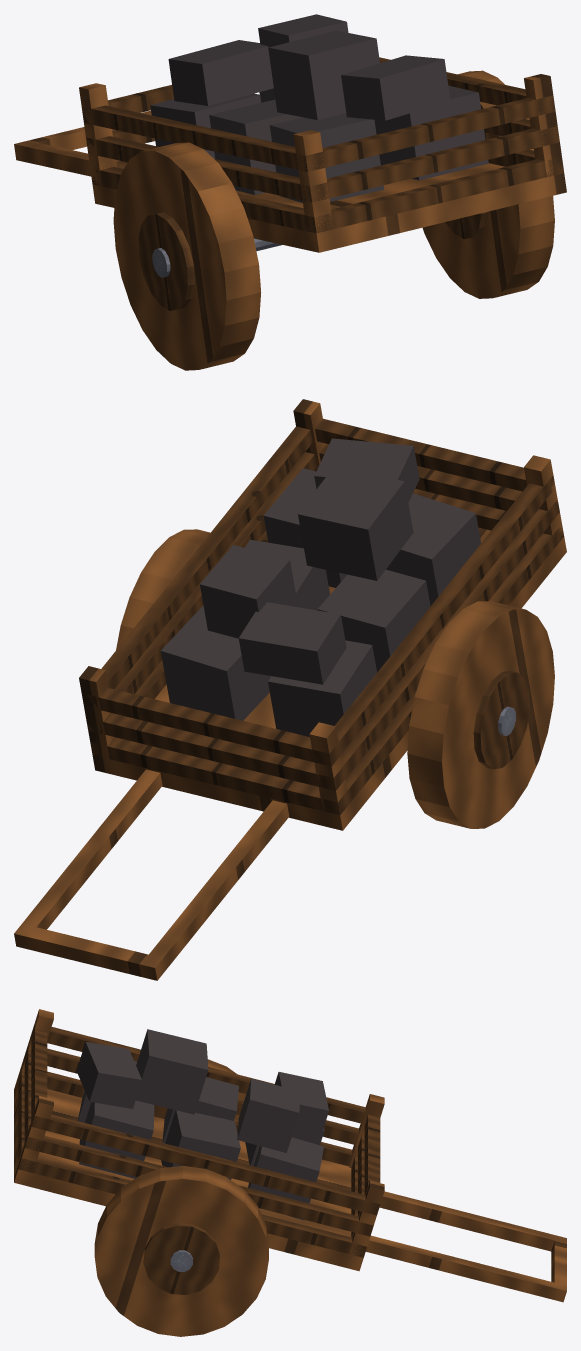
The model's file is holzwagen_t1_voll_world.fbx.
3 renders of one model, top to bottom at view 1: azimuth 30°, elevation 25°; view 2: azimuth 150°, elevation 25°; view 3: azimuth 270°, elevation 25°, orthographic. The views are drawn at different scales.
Visible parts, largest first — view 1: Holzwagen_T1; view 2: Holzwagen_T1; view 3: Holzwagen_T1.
Boxes of the visible parts, <box> form: Holzwagen_T1: <box>14,14,566,370</box>; Holzwagen_T1: <box>14,399,566,980</box>; Holzwagen_T1: <box>14,1009,566,1336</box>.
Size of the model in its own units: 121 by 98.38 by 216.
